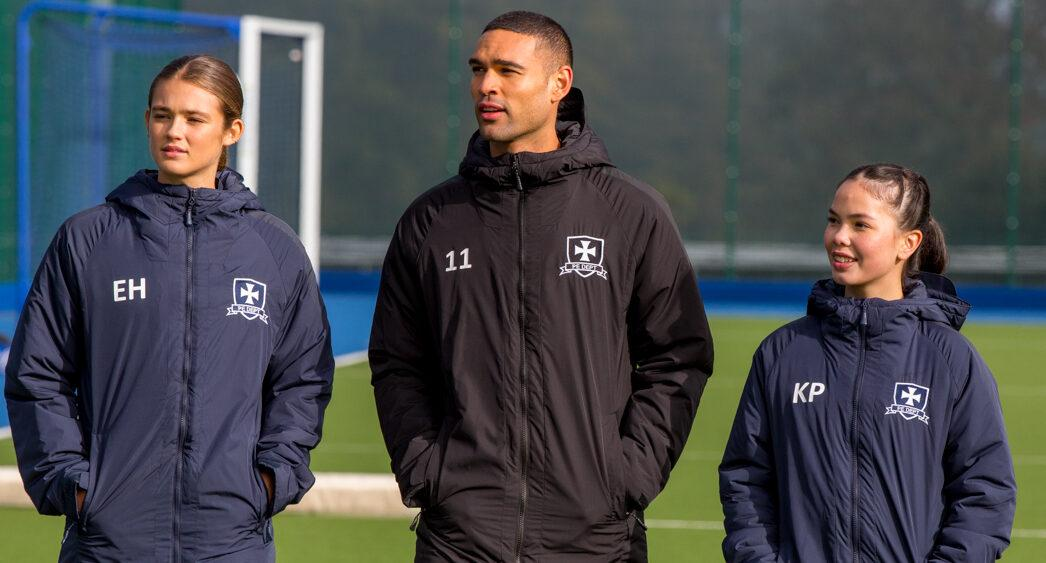coat: (363, 82, 715, 563), (4, 160, 339, 563), (719, 273, 1019, 563)
